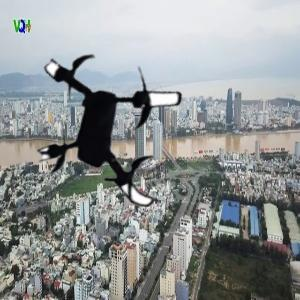drone: (26, 39, 205, 218)
